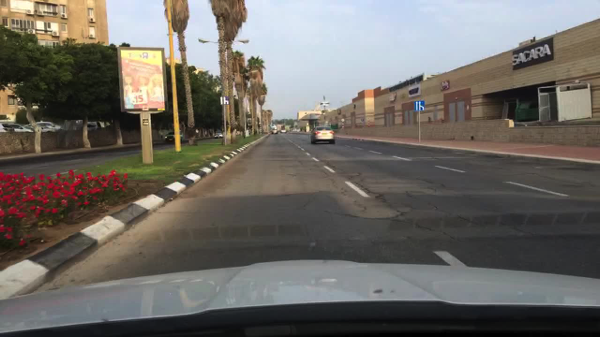car: (310, 125, 336, 145), (0, 124, 31, 133), (164, 130, 183, 144), (36, 122, 60, 131), (25, 125, 51, 132), (85, 121, 101, 131), (0, 120, 15, 126), (213, 131, 223, 139), (271, 128, 279, 134), (236, 131, 241, 136), (281, 128, 286, 133)
traffic sign: (118, 47, 168, 114), (414, 102, 424, 112), (341, 118, 345, 122)
